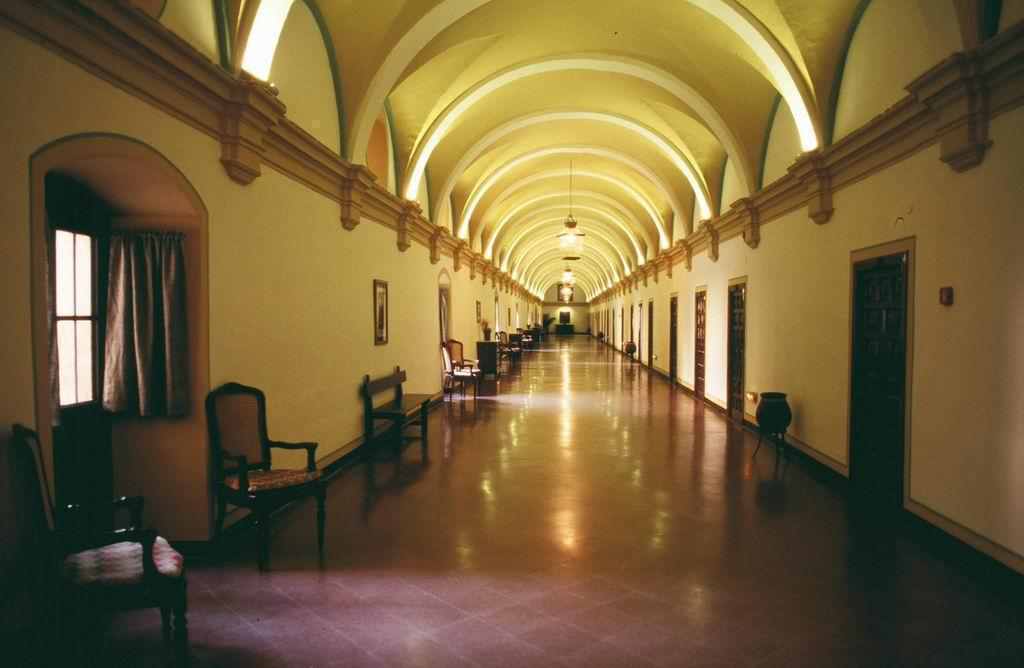Otro Obstaculo: (742, 389, 810, 479)
Puerta: (41, 201, 126, 499), (853, 264, 906, 507), (731, 285, 748, 424), (694, 289, 704, 396), (669, 294, 679, 383)
